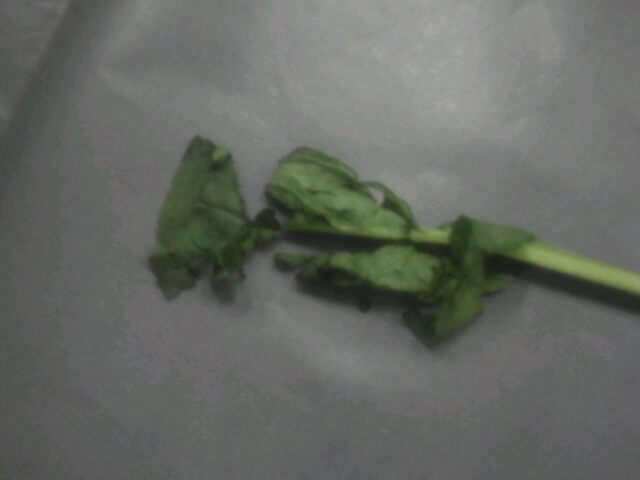yellow: (127, 84, 561, 374)
